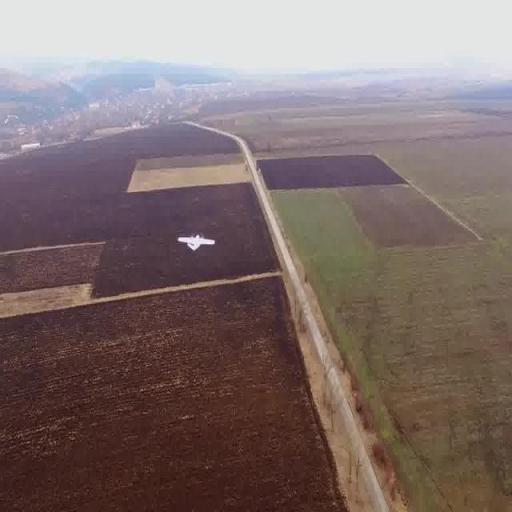uav: (177, 228, 218, 256)
